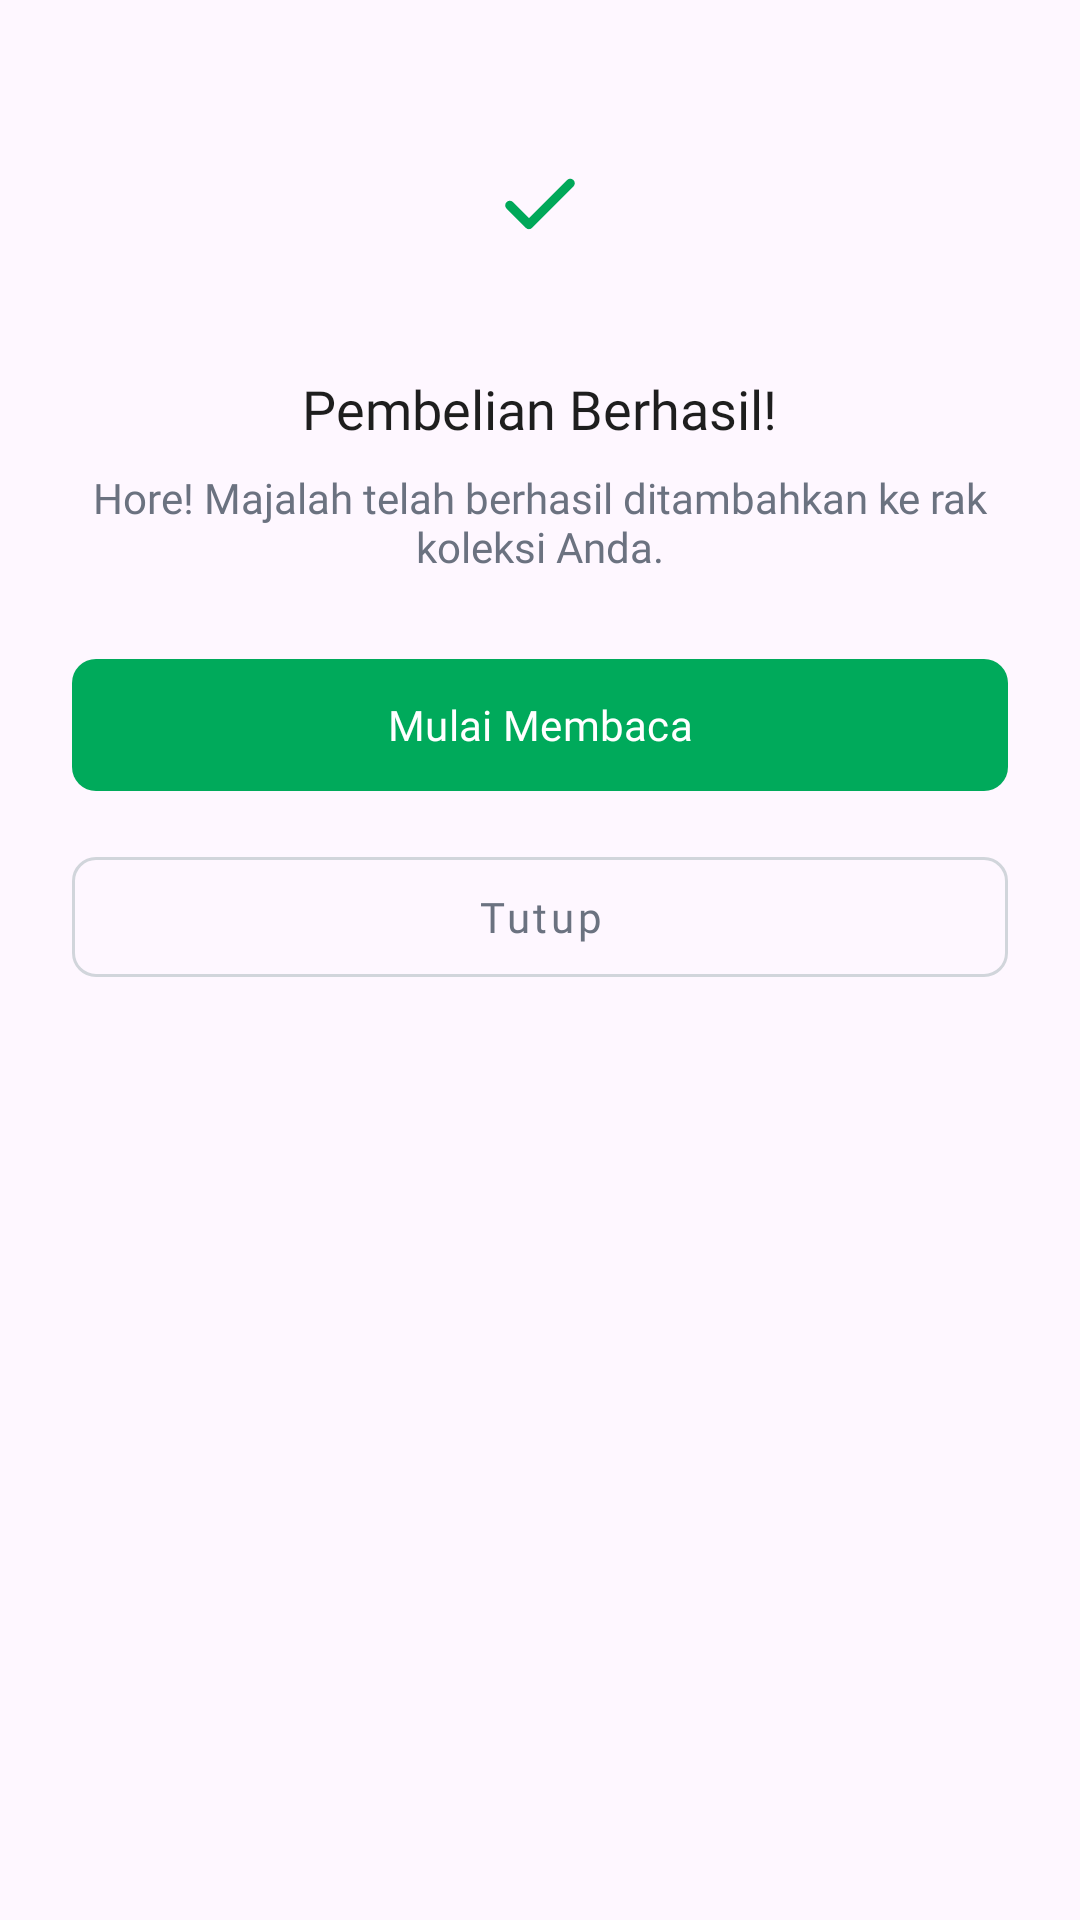

Named icons in this screenshot (1080 × 1920) and their bounding boxes, (x1, y1, x2, y2):
check: (505, 178, 575, 230)
